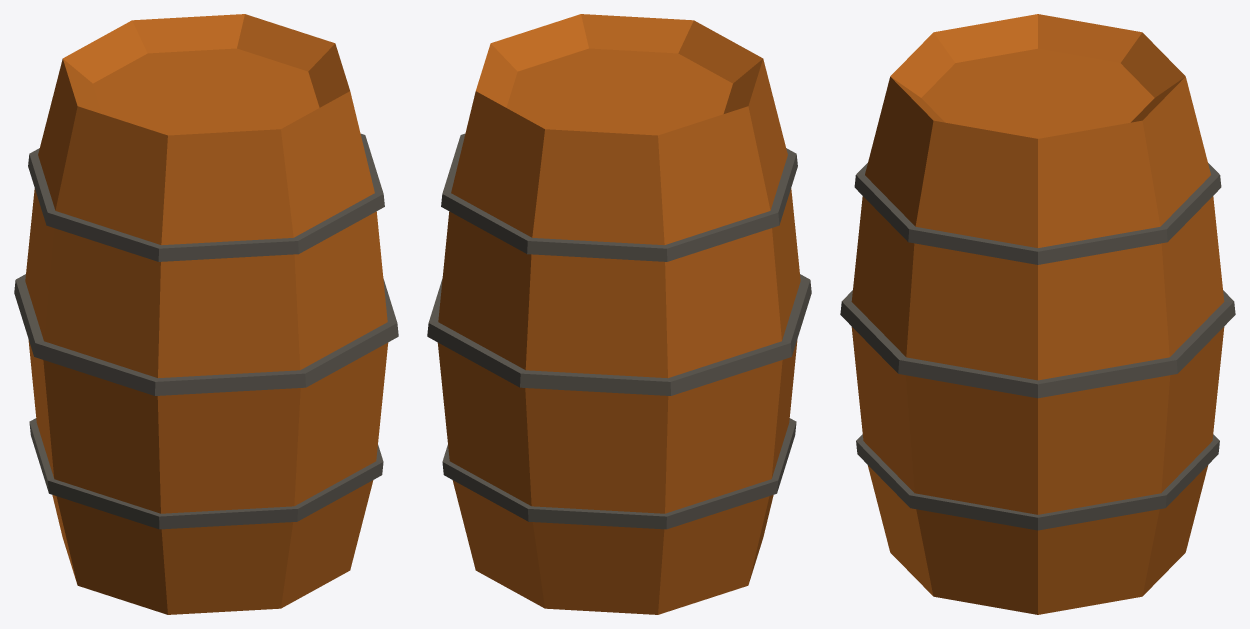
Rendered from Barrel.fbx.
3 renders of one model, left to right at view 1: azimuth 30°, elevation 25°; view 2: azimuth 150°, elevation 25°; view 3: azimuth 270°, elevation 25°, orthographic.
Parts seen in each view (by area): view 1: Wood1; view 2: Wood1; view 3: Wood1.
Boxes of the visible parts, x1,y1,x2,y2 form: Wood1: (14, 14, 398, 614); Wood1: (427, 14, 811, 614); Wood1: (840, 14, 1235, 614).
Bounding box in the file's own units: 0.5268 × 0.5268 × 0.7.
